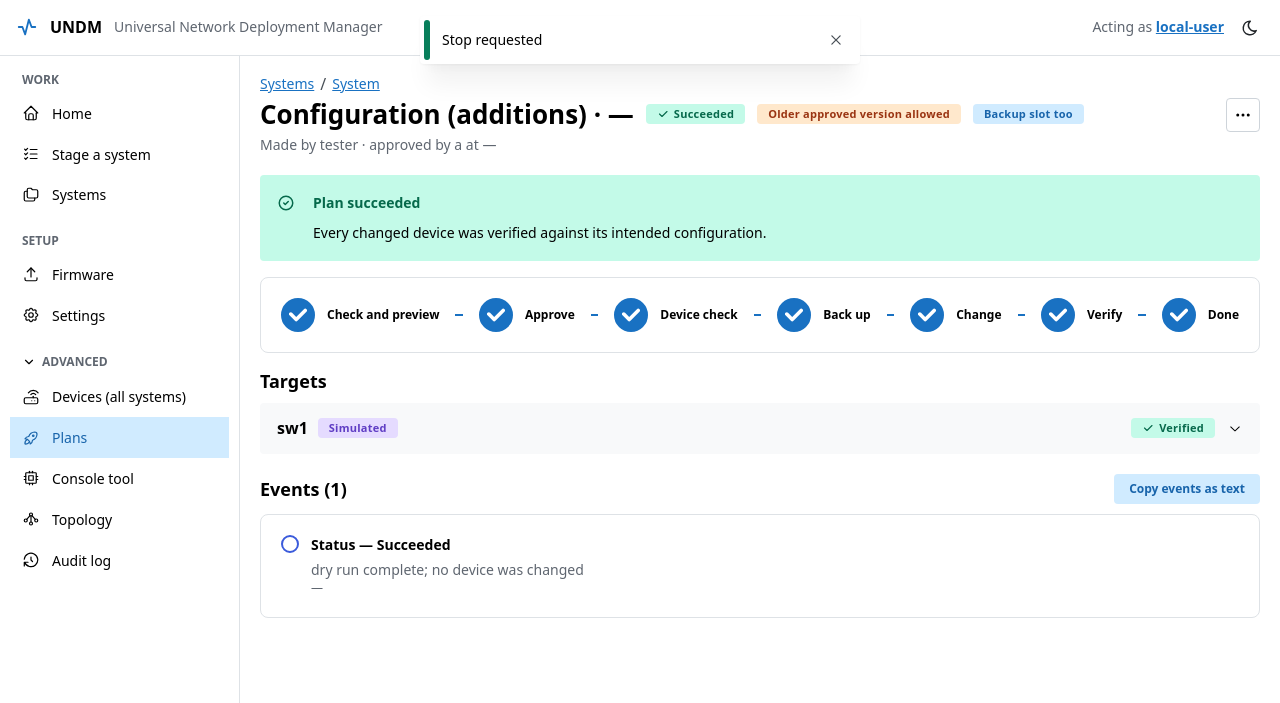
deployment outcome › shows the configuration read back after the deployment
What coordinates should you click on to do the following:
click the text "sw1"
I would click on:
 (292, 428)
Its box is [277,416,308,441].
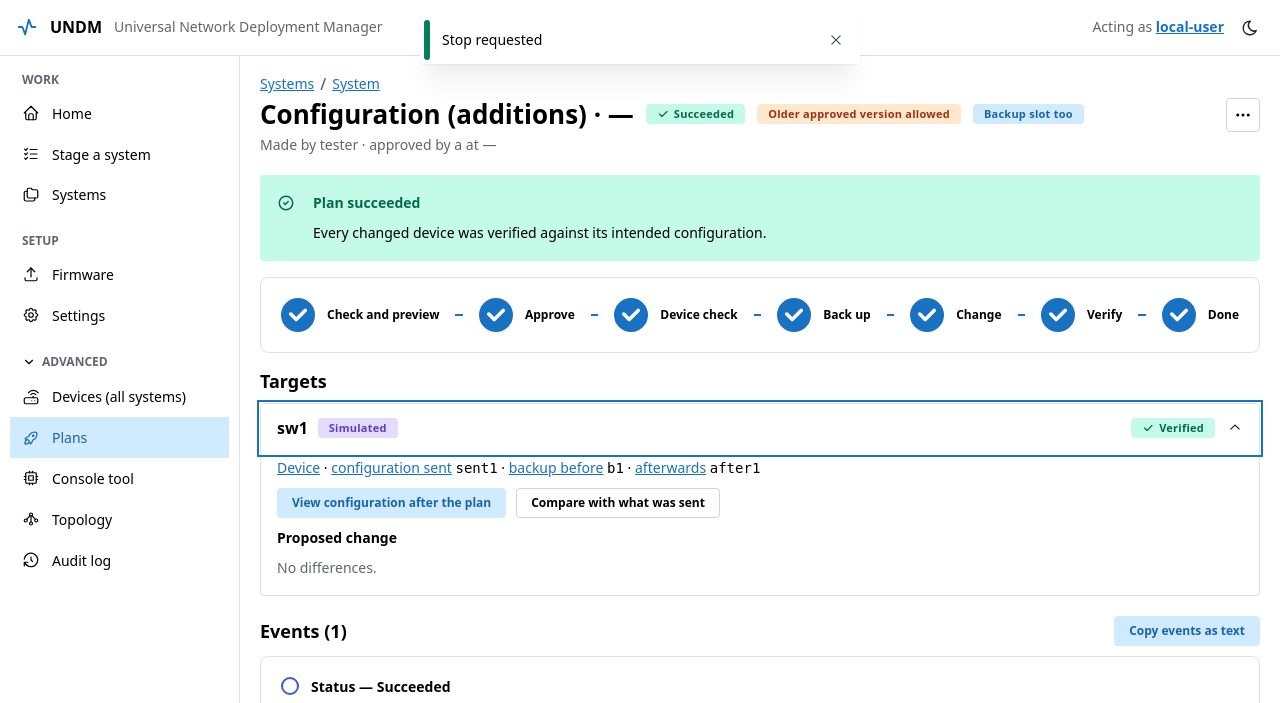
What coordinates should you click on to do the following:
click the button "View configuration after the plan"
I would click on:
 (392, 503)
Its box is [277,488,506,518].
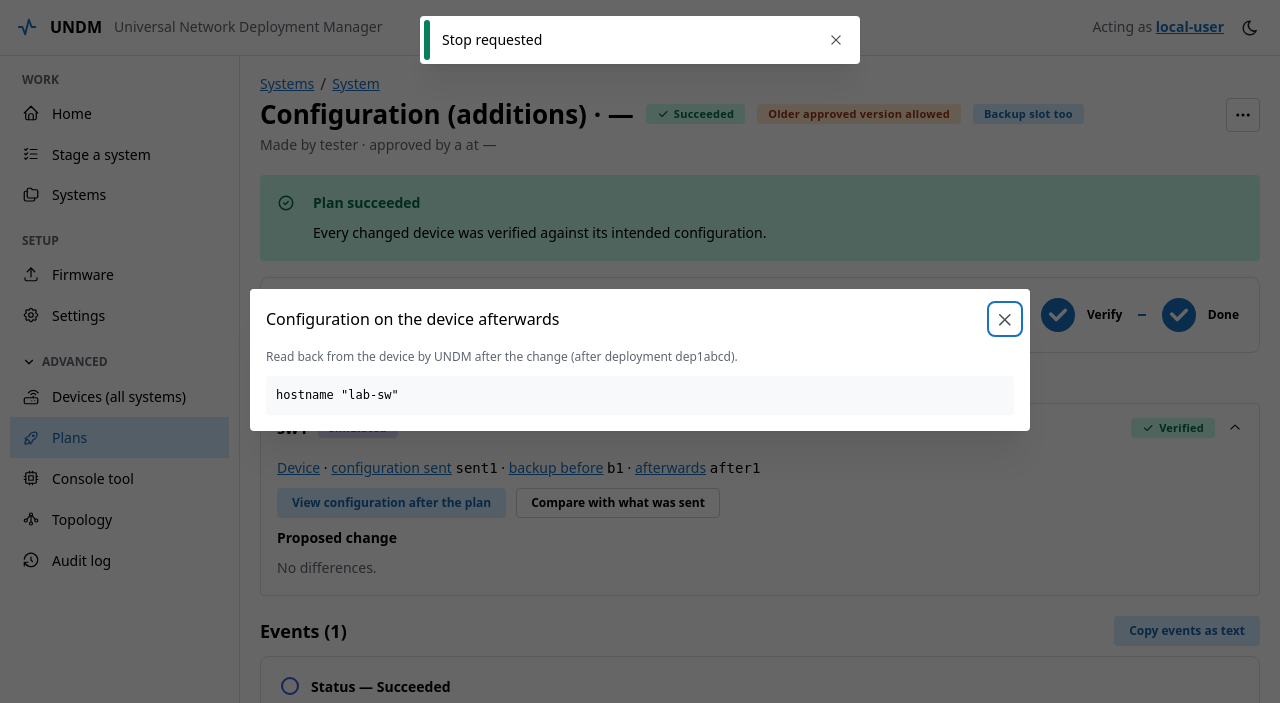
Expected: the button "Compare with what was sent" is shown, [516,488,720,518]
Expected: the text "hostname \"lab-sw\"" is shown, [266,376,1014,415]
